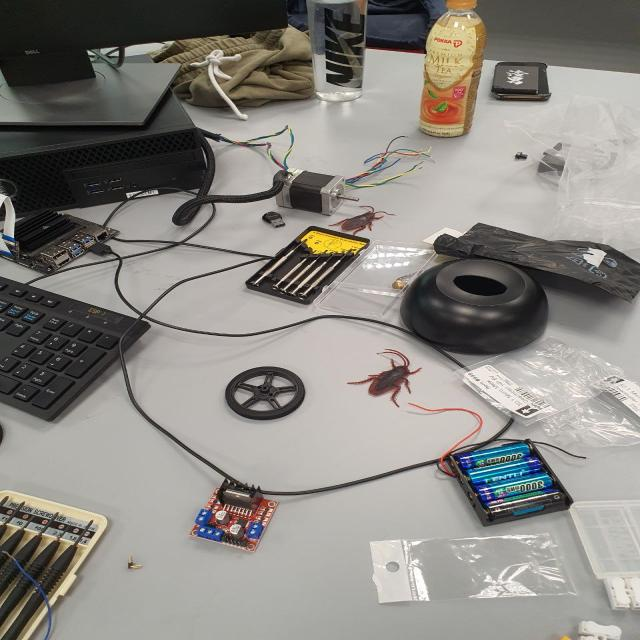Cockroach: (351, 348, 419, 410), (337, 196, 406, 240)
